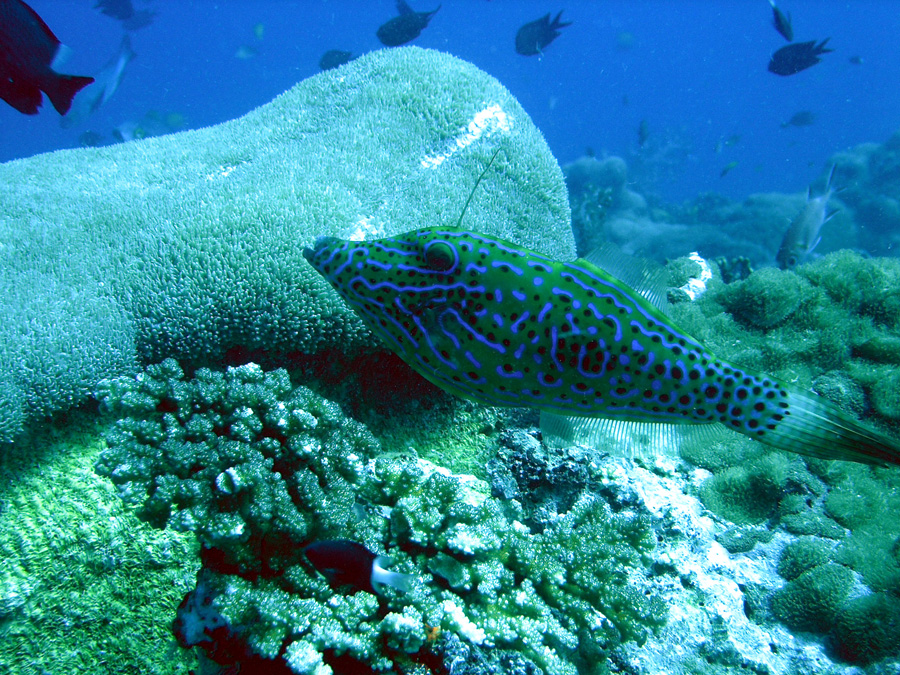Aluterus_scriptus: (302, 153, 870, 467)
